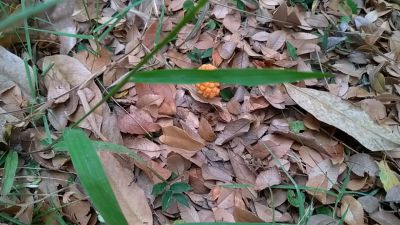eggs: (194, 62, 221, 100)
